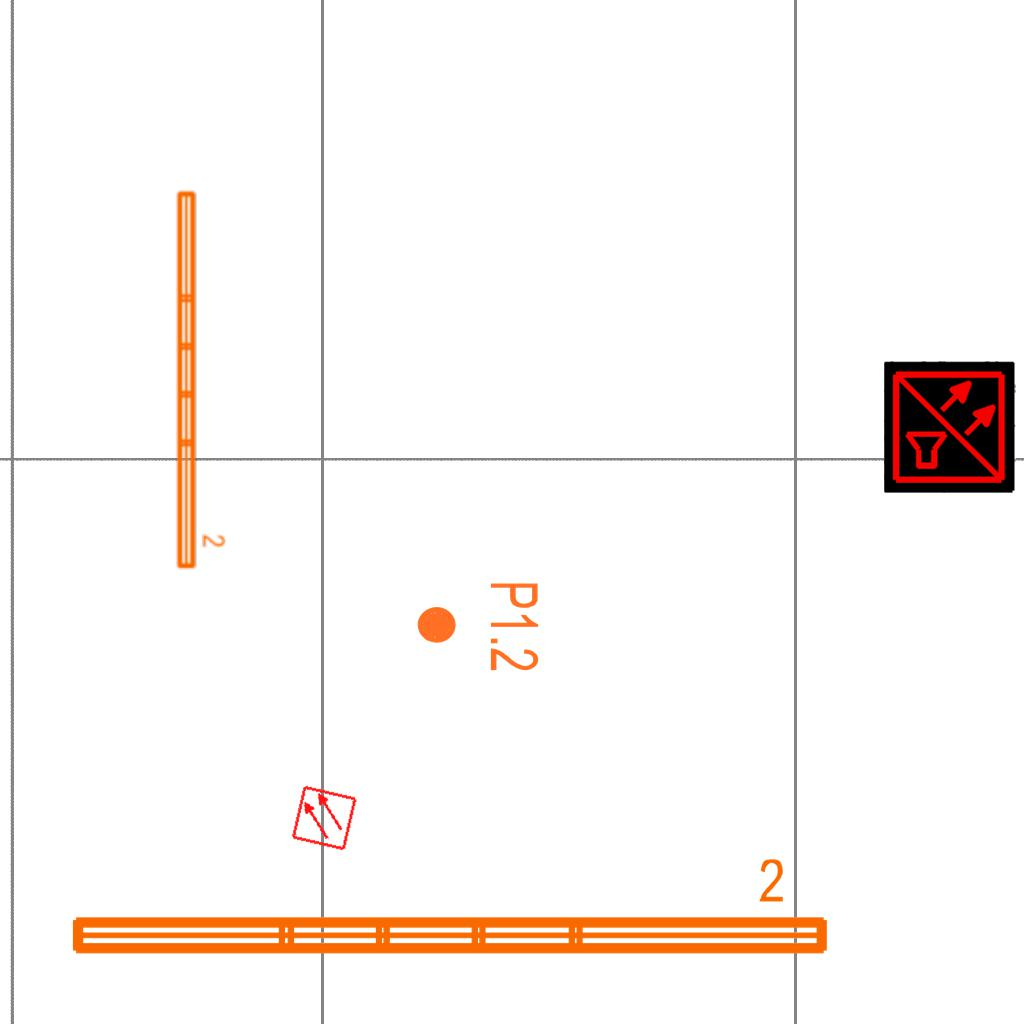Ambulanz_Pendelleuchte_LED: (62, 854, 836, 966), (171, 186, 227, 573)
Downlight_LED_Einbauleuchten_Flur: (414, 580, 542, 673)
OKW_Multisensormelder_(Kombination_optischer_Rauch-Kahlenmonoxid_Waerme-Melder): (884, 361, 1016, 493)
RMO_Rauchmelder_optischer: (290, 784, 358, 852)
